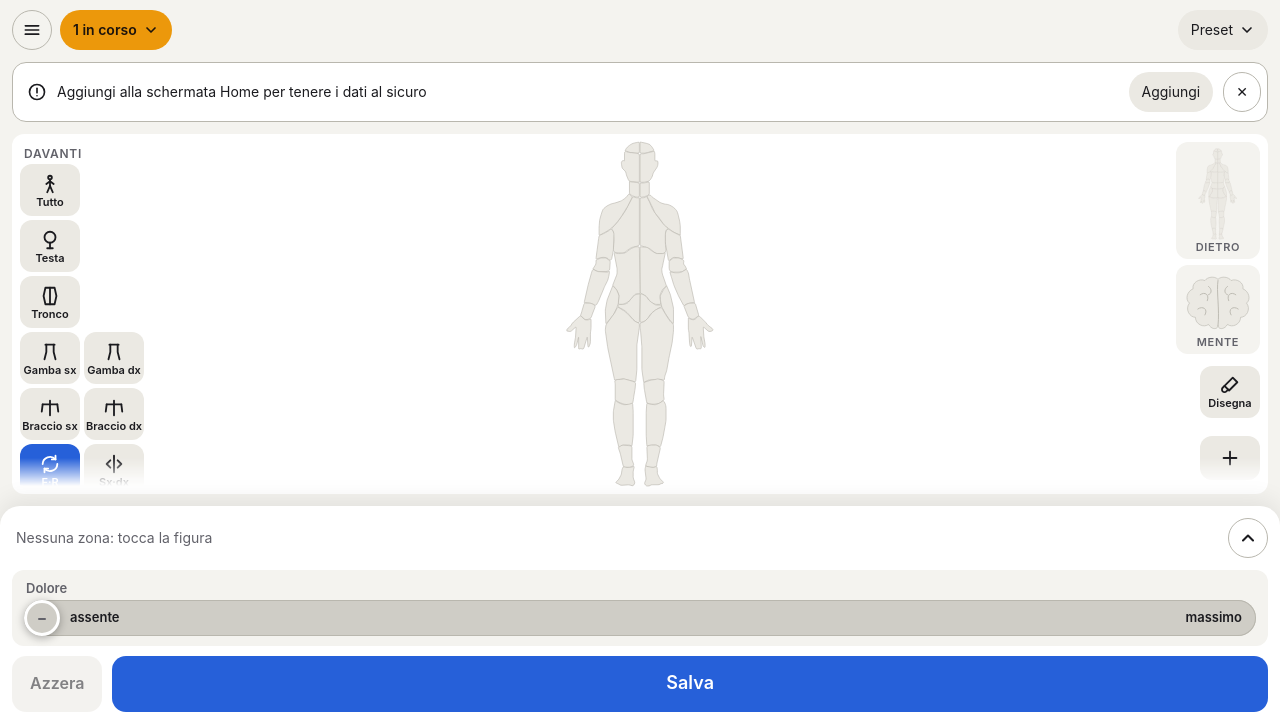
Scenario: Episode sheet › shows where the episode stands and every reading of it
This screenshot has width=1280, height=720.
What coordinates should you click on to do the following:
click the button "1 in corso"
I would click on:
 (116, 30)
Its box is [60,10,172,50].
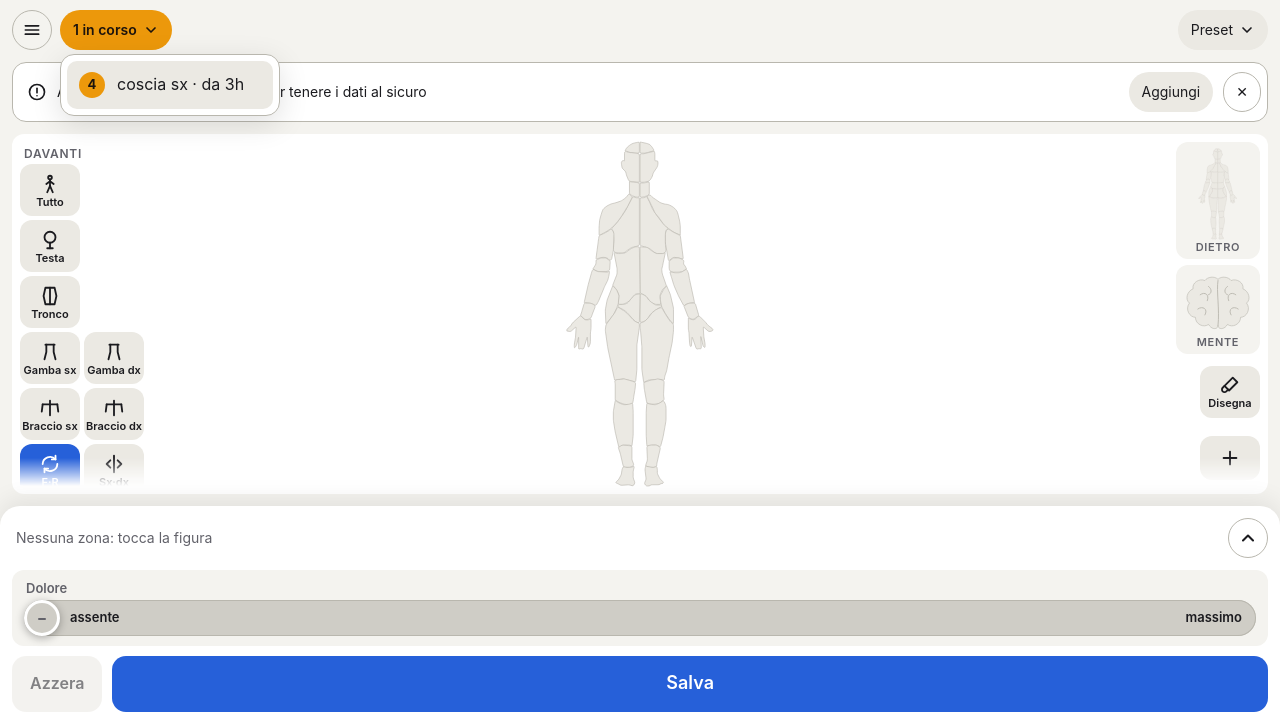
What coordinates should you click on to do the following:
click the menu item "4 coscia sx · da 3h"
I would click on:
 (170, 85)
Its box is [67,61,273,109].
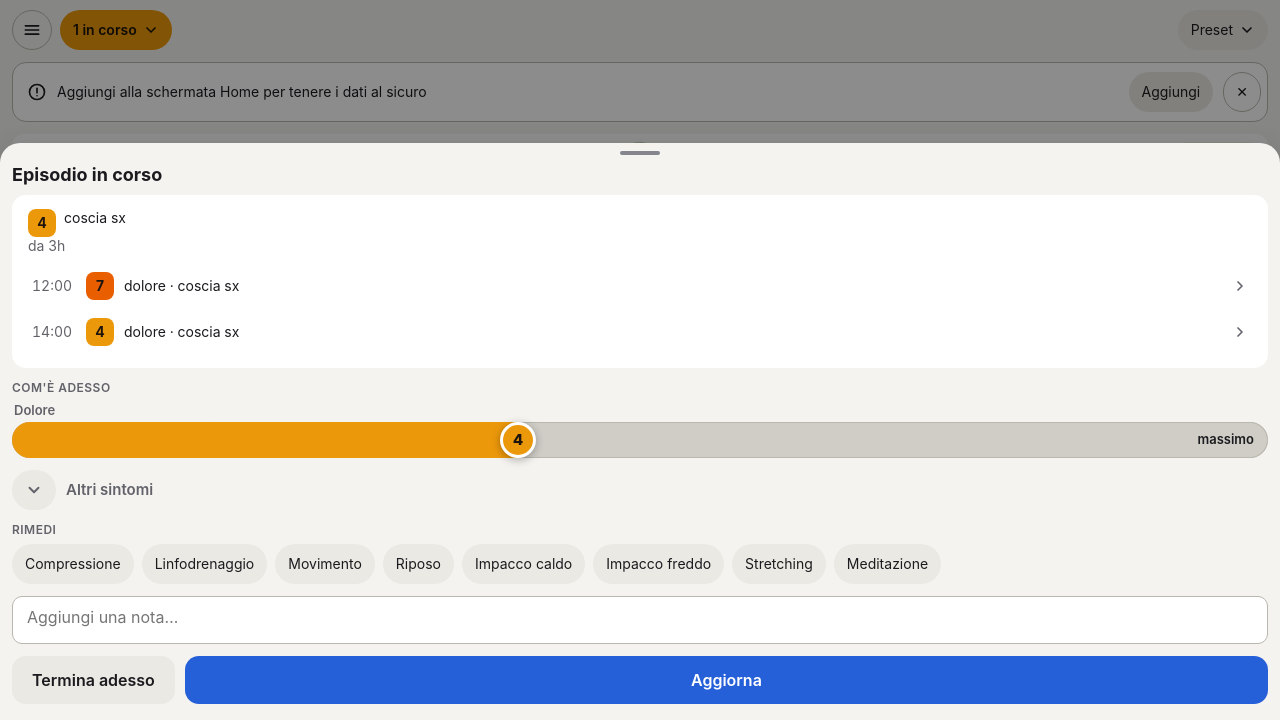
Check: the dialog "Episodio in corso" shows "coscia sx", box [64,209,126,226]
Check: the dialog "Episodio in corso" shows "da 3h", box [28,237,65,254]
Check: the button "12:00 7 dolore · coscia sx" is shown, box [28,264,1252,308]
